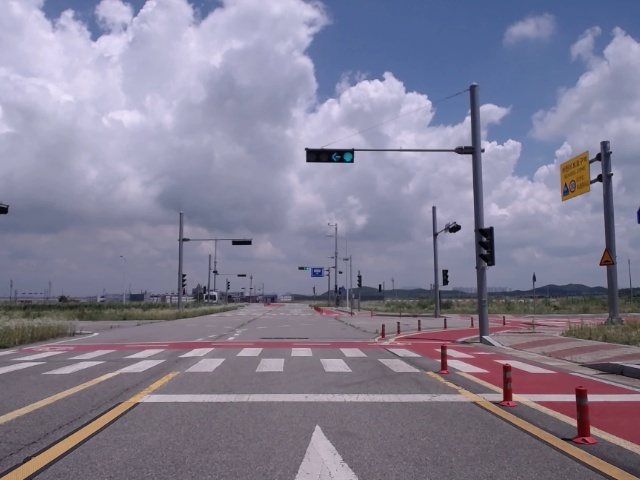all_green_4: (305, 147, 355, 165)
